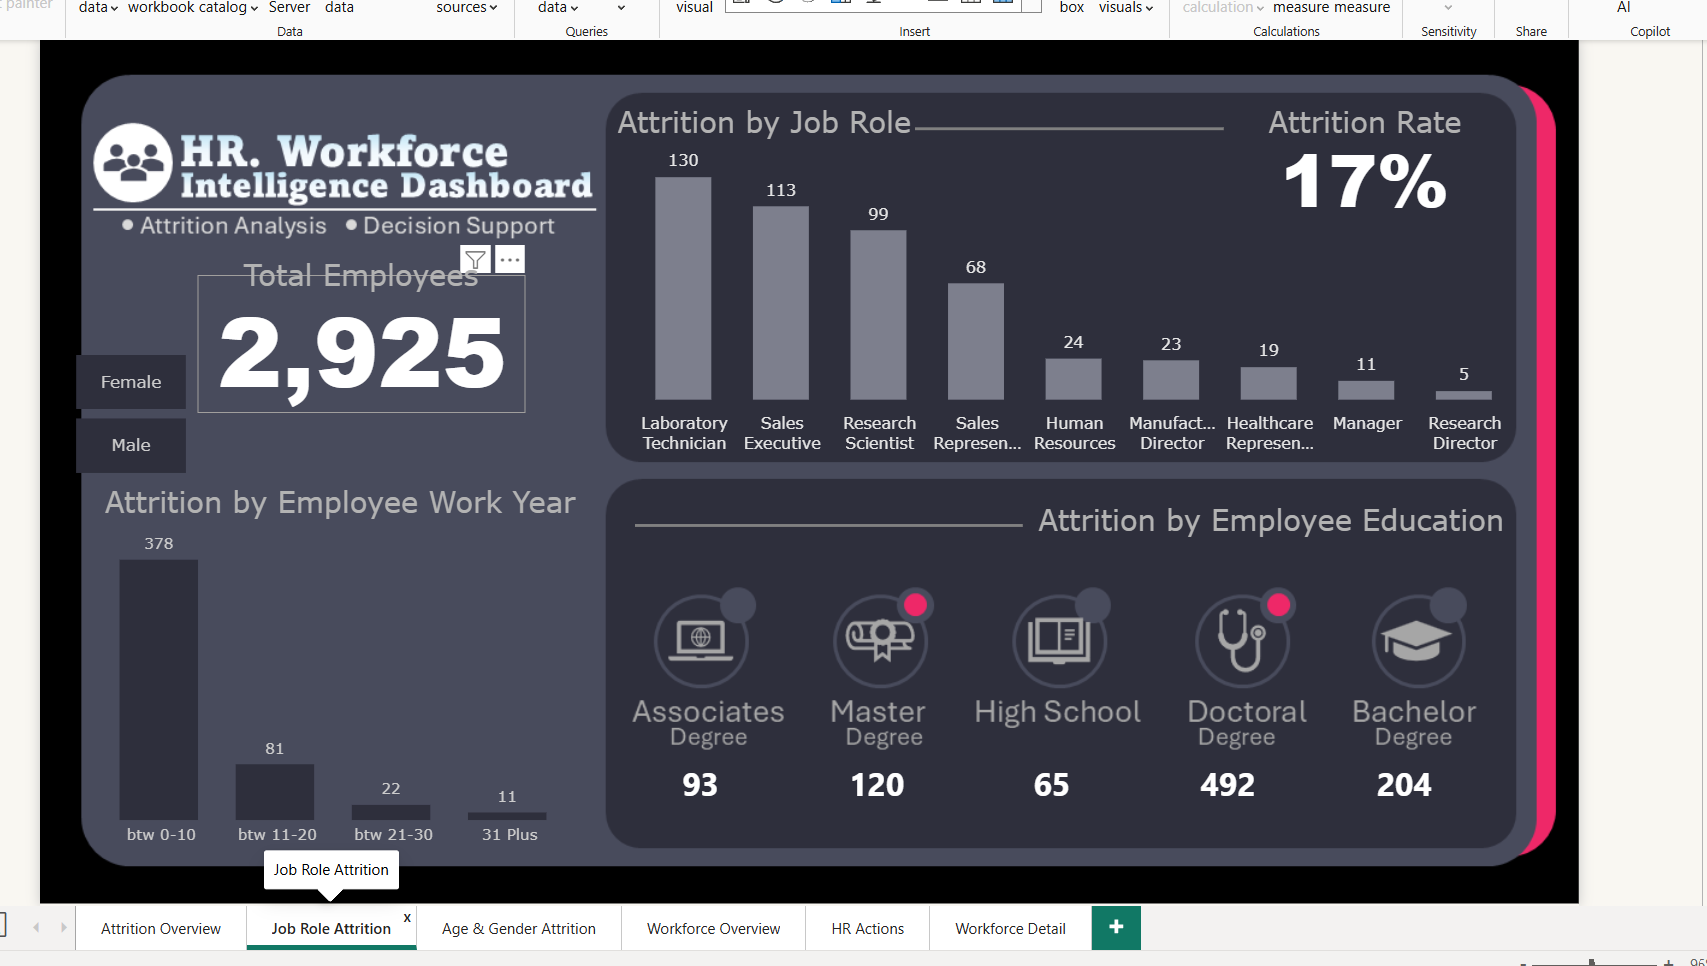

What the dashboard file says about the page in this screenshot:
{"tool":"powerbi","page":{"name":"Job Role Attrition","canvas":[1280,720],"ordinal":1},"visuals":[{"type":"columnChart","fields":{"Category":["HR Master Data.Working Year Group"],"Y":["Dax_Measures.Total Attrition"]},"box":[34.8,399.1,418.3,274.5],"z":0},{"type":"columnChart","fields":{"Category":["HR Master Data.Job Role"],"Y":["Dax_Measures.Inactive Employees"]},"box":[471.8,81.1,756.6,264],"z":1000},{"type":"card","fields":{"Values":["Dax_Measures.Total Employees"]},"box":[130.5,195.6,274.1,114],"z":2000},{"type":"textbox","box":[165.2,181.2,203.4,30.3],"z":3000},{"type":"textbox","box":[34.8,369.1,430.3,30],"z":4000},{"type":"textbox","box":[817.4,384.7,400.3,30],"z":5000},{"type":"shape","box":[495,393.1,322.4,21.6],"z":6000},{"type":"shape","box":[727.5,63.4,256.7,20.8],"z":7000},{"type":"textbox","box":[480.1,53,272.3,31.2],"z":8000},{"type":"textbox","box":[1014.3,53,174.6,30.1],"z":9000},{"type":"card","fields":{"Values":["Dax_Measures.% Attrition"]},"box":[1014.3,77.9,174.6,69.6],"z":10000},{"type":"card","fields":{"Values":["Dax_Measures.Inactive Employees"]},"box":[495,596.9,109.1,45.5],"z":11000},{"type":"card","fields":{"Values":["Dax_Measures.Inactive Employees"]},"box":[1079.5,596.9,109.1,45.5],"z":12000},{"type":"card","fields":{"Values":["Dax_Measures.Inactive Employees"]},"box":[933.3,596.9,109.1,45.5],"z":13000},{"type":"card","fields":{"Values":["Dax_Measures.Inactive Employees"]},"box":[787.2,596.9,109.1,45.5],"z":14000},{"type":"card","fields":{"Values":["Dax_Measures.Inactive Employees"]},"box":[641.1,596.9,109.1,45.5],"z":15000},{"type":"advancedSlicerVisual","fields":{"Values":["HR Master Data.Gender"]},"box":[30,261.9,91.5,98.7],"z":16000}]}

Visuals, with their boxes on the page's 1280x720 design canvas (x1, y1, x2, y2). These are canvas units, not pixel positions in the 1707x966 screenshot, which may show the page scaled, cropped or inside an application window:
columnChart - HR Master Data.Working Year Group x Dax_Measures.Total Attrition: <box>35,399,453,674</box>
columnChart - HR Master Data.Job Role x Dax_Measures.Inactive Employees: <box>472,81,1228,345</box>
card - Dax_Measures.Total Employees: <box>130,196,405,310</box>
textbox: <box>165,181,369,212</box>
textbox: <box>35,369,465,399</box>
textbox: <box>817,385,1218,415</box>
shape: <box>495,393,817,415</box>
shape: <box>728,63,984,84</box>
textbox: <box>480,53,752,84</box>
textbox: <box>1014,53,1189,83</box>
card - Dax_Measures.% Attrition: <box>1014,78,1189,148</box>
card - Dax_Measures.Inactive Employees: <box>495,597,604,642</box>
card - Dax_Measures.Inactive Employees: <box>1080,597,1189,642</box>
card - Dax_Measures.Inactive Employees: <box>933,597,1042,642</box>
card - Dax_Measures.Inactive Employees: <box>787,597,896,642</box>
card - Dax_Measures.Inactive Employees: <box>641,597,750,642</box>
advancedSlicerVisual - HR Master Data.Gender: <box>30,262,122,361</box>
